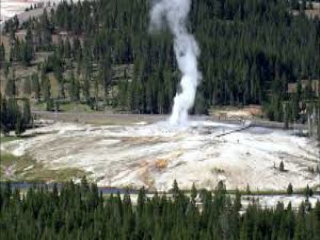smoke: (149, 3, 210, 133)
